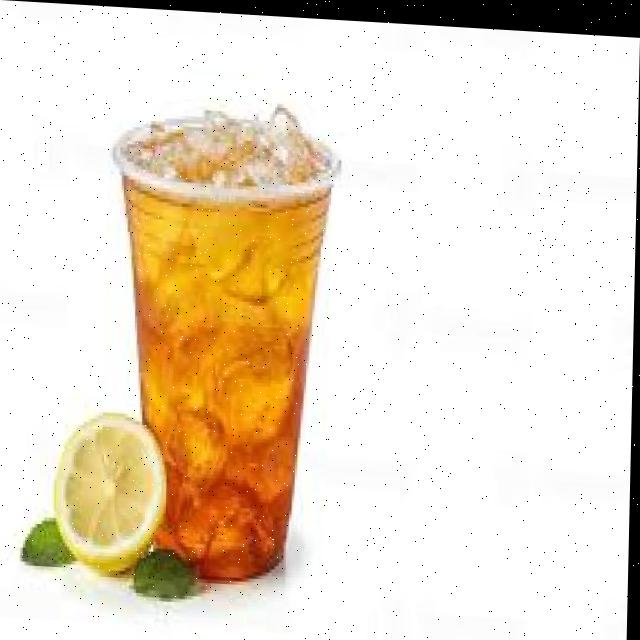cup: (115, 103, 340, 576)
